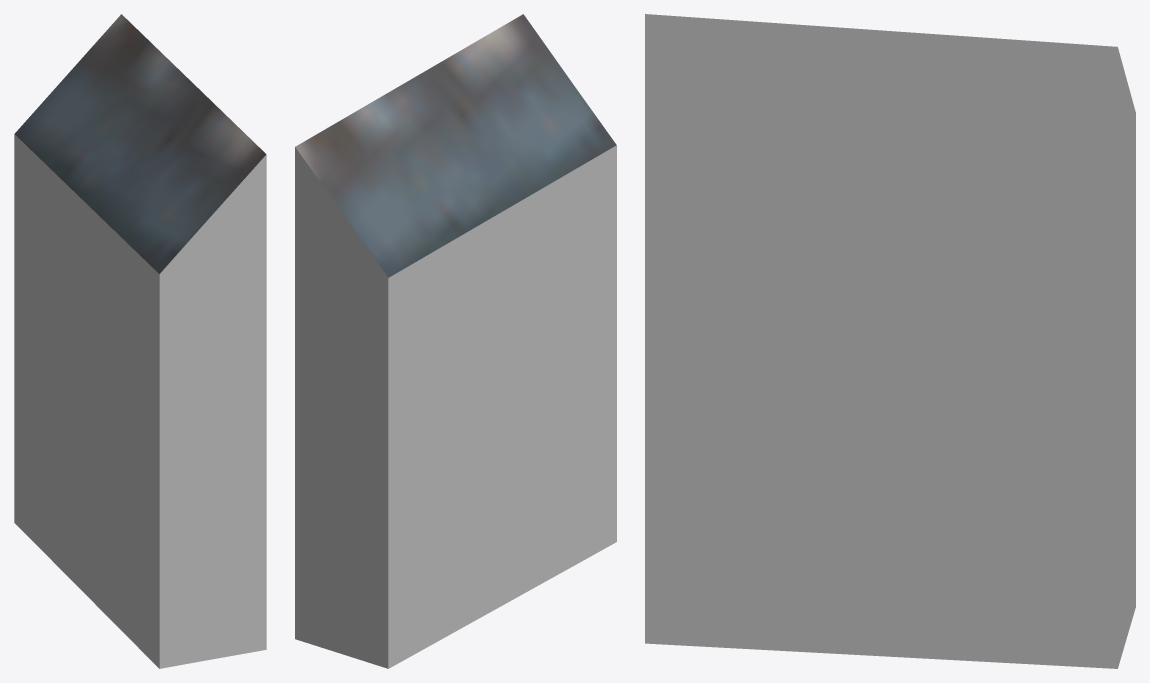
The model's file is DEBW_0010007Tx4C.gltf.
3 renders of one model, left to right at view 1: azimuth 30°, elevation 25°; view 2: azimuth 150°, elevation 25°; view 3: azimuth 270°, elevation 25°, orthographic. The views are drawn at different scales.
Visible parts, largest first — view 1: Z_UP; view 2: Z_UP; view 3: Z_UP.
Part boxes in pixels (bbox=[...]): Z_UP: bbox=[14, 14, 266, 668]; Z_UP: bbox=[295, 14, 616, 668]; Z_UP: bbox=[645, 14, 1135, 668].
Size of the model in its own units: 2.51 by 8.43 by 5.96.
Materials: 2 (1 with a texture image).
